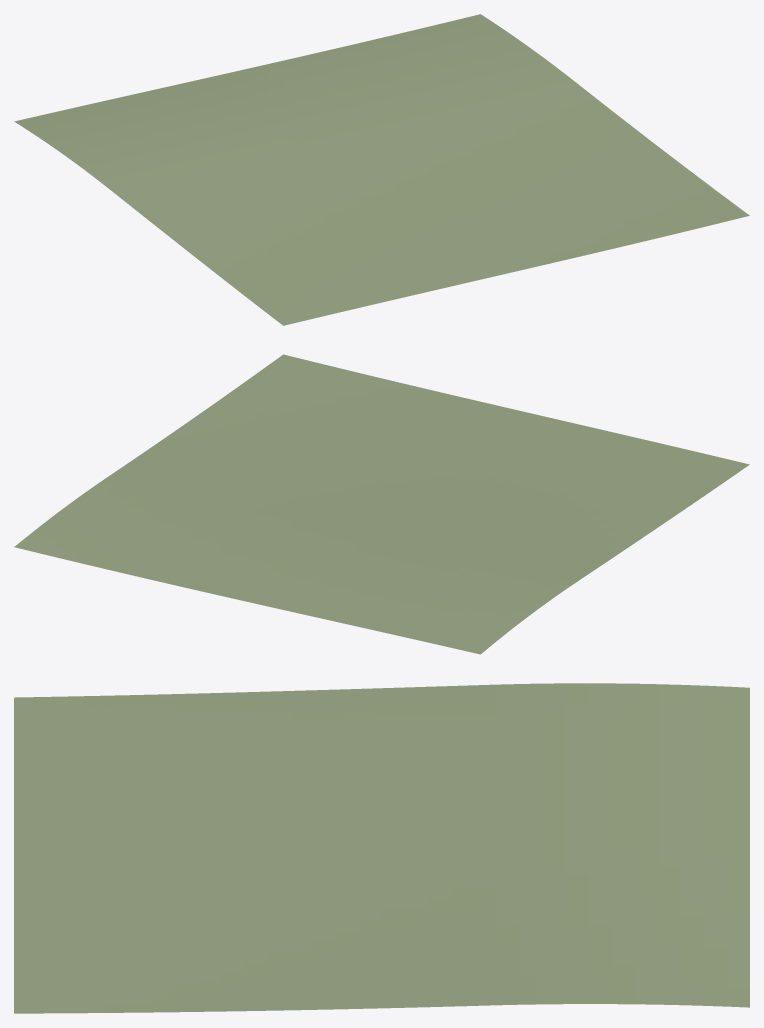
The model's file is expanse-30-7.glb.
3 renders of one model, top to bottom at view 1: azimuth 30°, elevation 25°; view 2: azimuth 150°, elevation 25°; view 3: azimuth 270°, elevation 25°, orthographic. The views are drawn at different scales.
Visible parts, largest first — view 1: expanse-30-7; view 2: expanse-30-7; view 3: expanse-30-7.
Boxes of the visible parts, x1,y1,x2,y2 form: expanse-30-7: (14, 14, 749, 325); expanse-30-7: (14, 354, 749, 654); expanse-30-7: (14, 683, 749, 1013).
Size of the model in its own units: 256 by 7.45 by 256.
